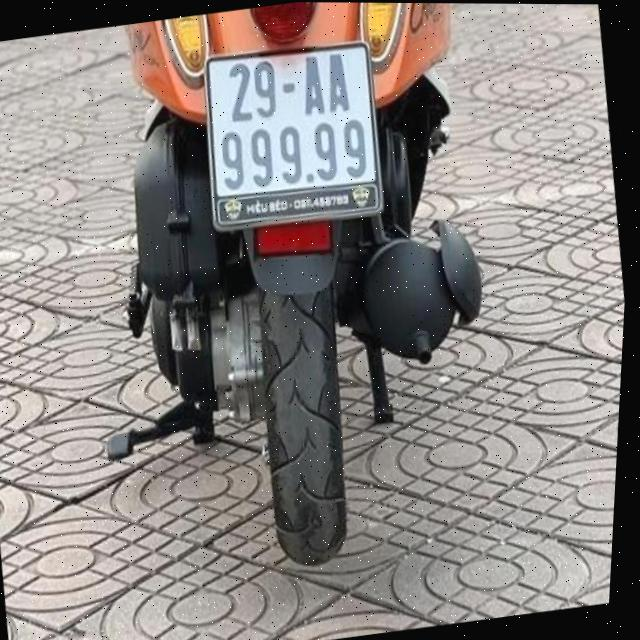motorcycle: (43, 1, 553, 604)
plate: (190, 27, 395, 223)
